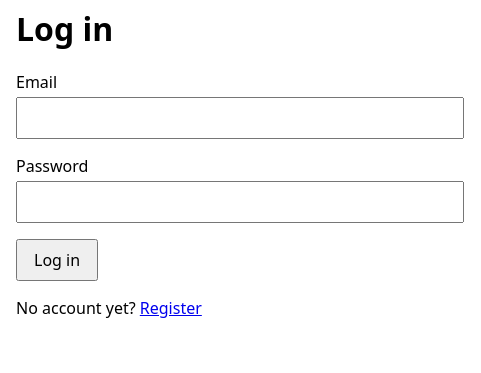
Test: LoginView › shows an error for invalid credentials
The width and height of the screenshot is (481, 373).
Type "test@example.com" into the field with id "email" at point(240, 118), box x1=16 y1=97 x2=464 y2=139
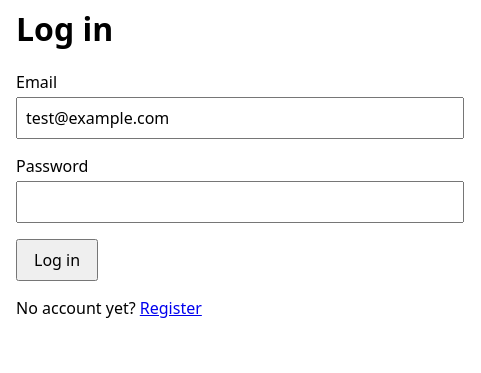
Type "secret-password" into the password field labelled "Password" at point(240, 202), box x1=16 y1=181 x2=464 y2=223
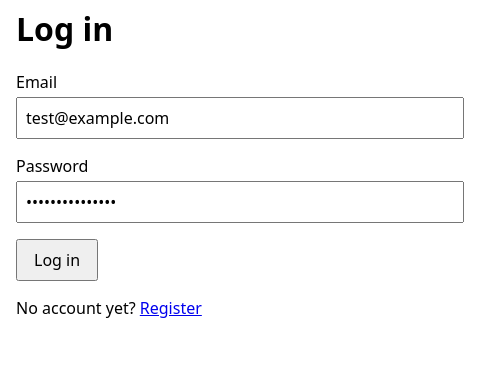
Submit the form, box x1=16 y1=71 x2=464 y2=281
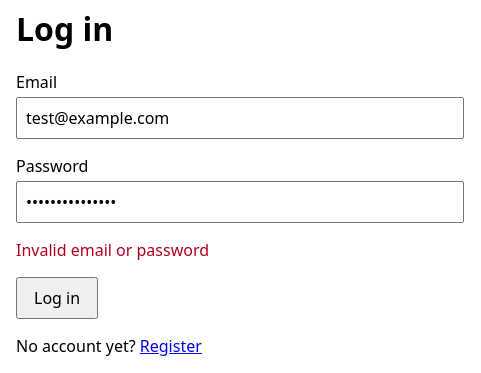
Result: the text "Invalid email or password" is shown at x1=16 y1=239 x2=209 y2=261
